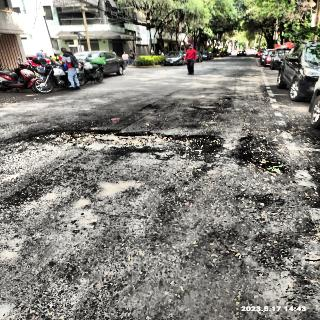alligator-crack: (58, 120, 109, 126)
crack: (139, 86, 182, 109), (125, 114, 153, 125)
pothole: (27, 127, 226, 152)
